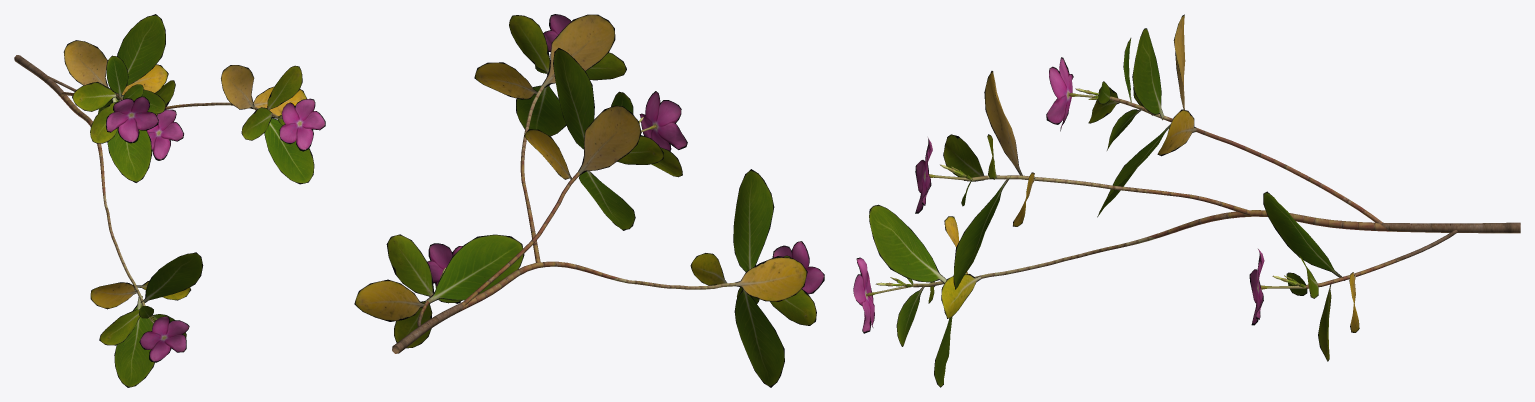
3 renders of one model, left to right at view 1: azimuth 30°, elevation 25°; view 2: azimuth 150°, elevation 25°; view 3: azimuth 270°, elevation 25°, orthographic. The views are drawn at different scales.
Visible parts, largest first — view 1: tree; view 2: tree; view 3: tree.
Part boxes in pixels (<box>): tree: <box>14,14,325,387</box>; tree: <box>354,14,824,387</box>; tree: <box>853,14,1520,387</box>.
Bounding box in the file's own units: 0.1558 × 0.1842 × 0.265.
1 material, 1 textured.
